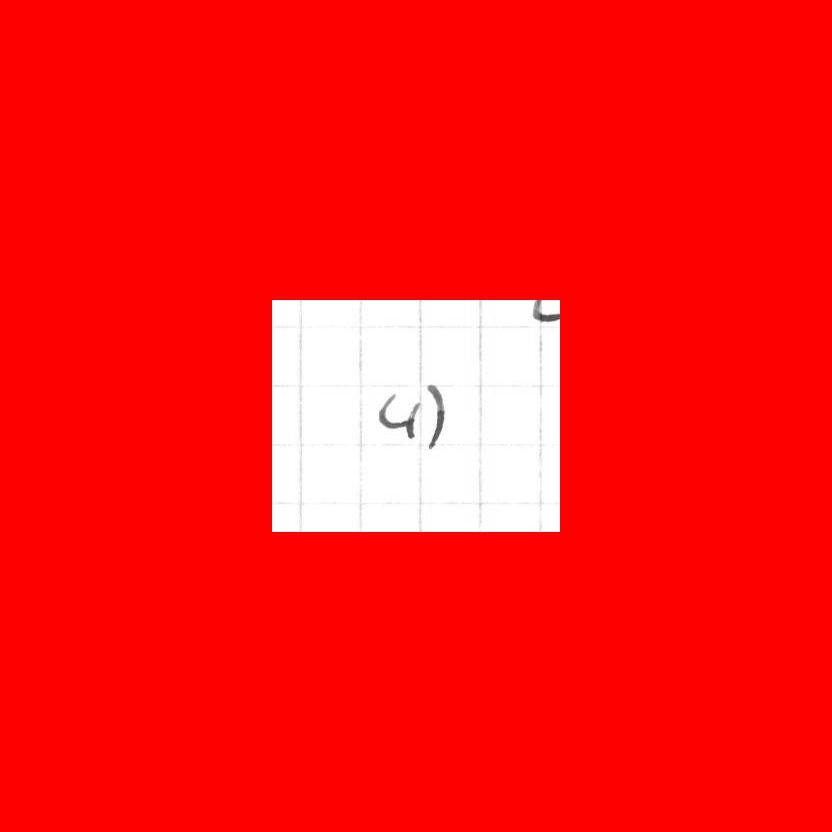Char: (377, 386, 422, 442), (423, 378, 448, 455), (528, 299, 563, 322)
